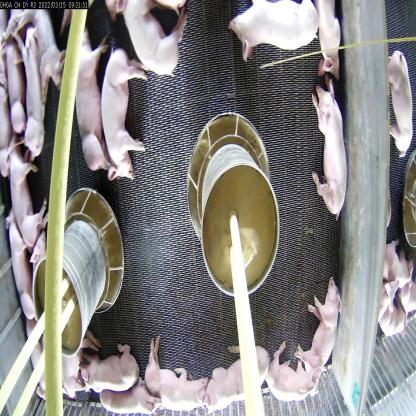Pig: (98, 41, 147, 198), (198, 333, 279, 415), (72, 27, 111, 188), (17, 21, 56, 170), (118, 0, 194, 76), (146, 330, 213, 416), (1, 140, 47, 251), (262, 337, 325, 415), (316, 82, 350, 222), (231, 0, 322, 52), (304, 271, 342, 391), (85, 334, 149, 396), (382, 40, 415, 160), (309, 0, 350, 93), (29, 352, 84, 415), (31, 0, 67, 91), (3, 226, 32, 328), (102, 385, 163, 415)
